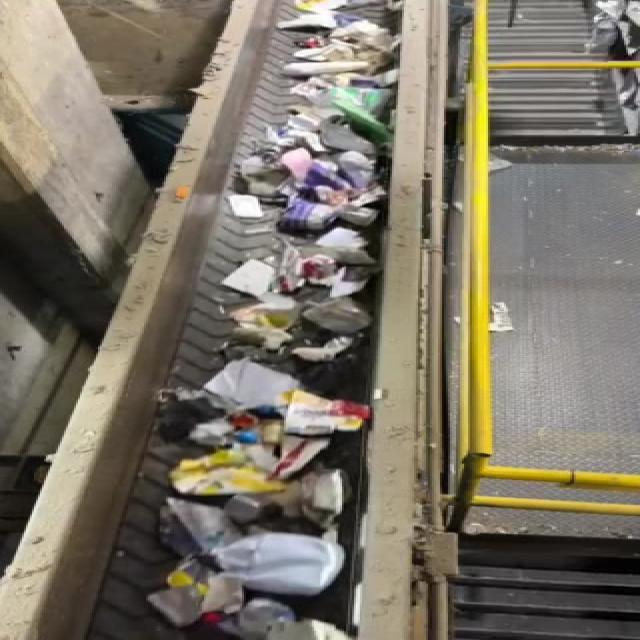hdpe: (190, 532, 352, 590)
paper: (162, 452, 302, 502), (288, 392, 384, 440)
pp: (297, 461, 358, 522), (237, 601, 304, 633)
